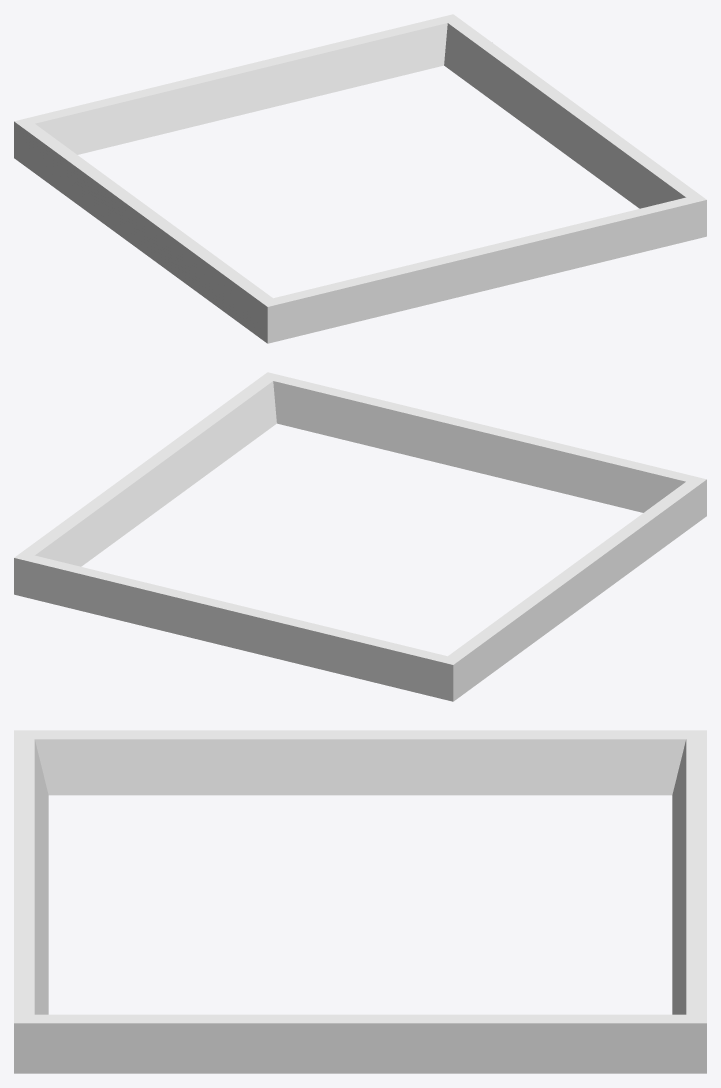
Rendered from road-square-barrier.glb.
3 views of the same model, one above another, from view 1: azimuth 30°, elevation 25°; view 2: azimuth 150°, elevation 25°; view 3: azimuth 270°, elevation 25° (orthographic). The views are drawn at different scales.
Parts seen in each view (by area): view 1: road-square-barrier; view 2: road-square-barrier; view 3: road-square-barrier.
Part boxes in pixels (box(x1,y1,x2,y2)): road-square-barrier: box(14, 14, 706, 343); road-square-barrier: box(14, 372, 706, 701); road-square-barrier: box(14, 730, 706, 1073).
Bounding box in the file's own units: 1 × 0.08 × 1.
Materials: 1 (1 with a texture image).
